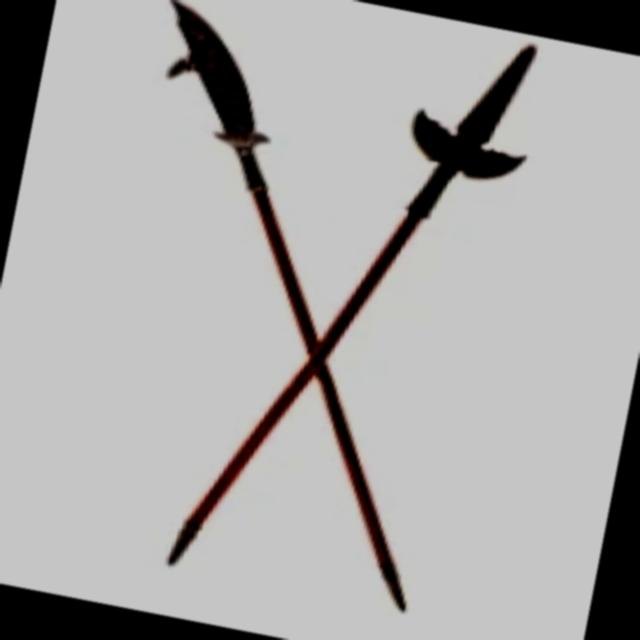spear: (32, 0, 570, 625)
